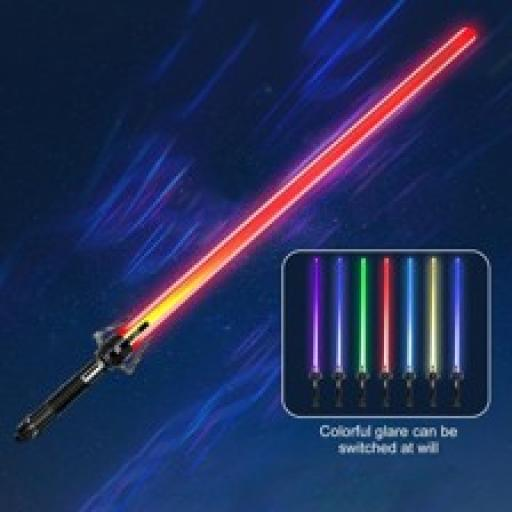lightsaber: (14, 26, 476, 439)
